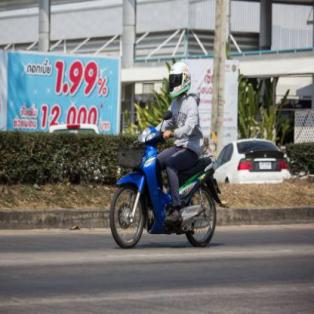Motocicleta: (107, 122, 222, 254)
